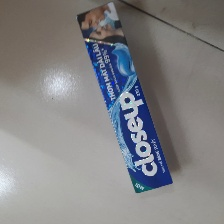CloseUp Tuyet: (76, 2, 176, 195)
